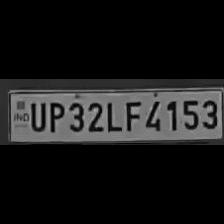1: (162, 97, 178, 131)
2: (84, 98, 104, 132)
3: (64, 100, 84, 132), (200, 96, 218, 130)
4: (142, 97, 162, 132)
5: (179, 96, 199, 130)
F: (121, 97, 141, 132)
L: (104, 98, 120, 132)
P: (46, 99, 64, 133)
U: (28, 100, 44, 132)
